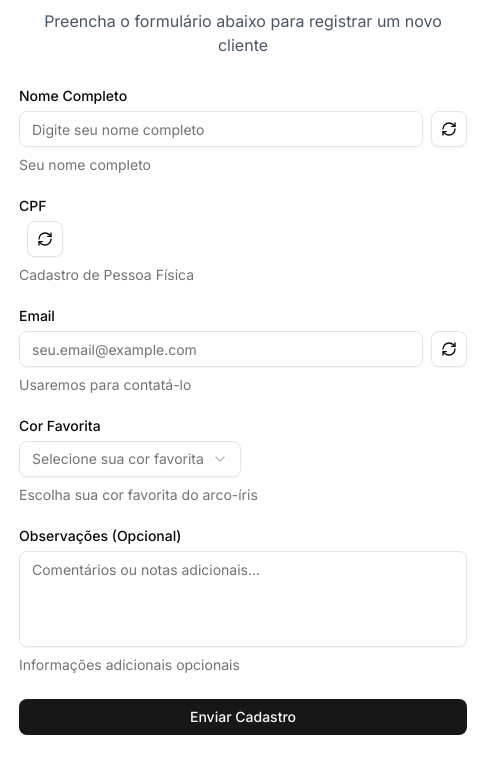
Test: Customer Registration Page Integration › form validation flow › displays validation errors for required fields on empty submission
(page scrolled)
Click the button "Enviar Cadastro". click: click(243, 717)
box: [19,699,467,735]
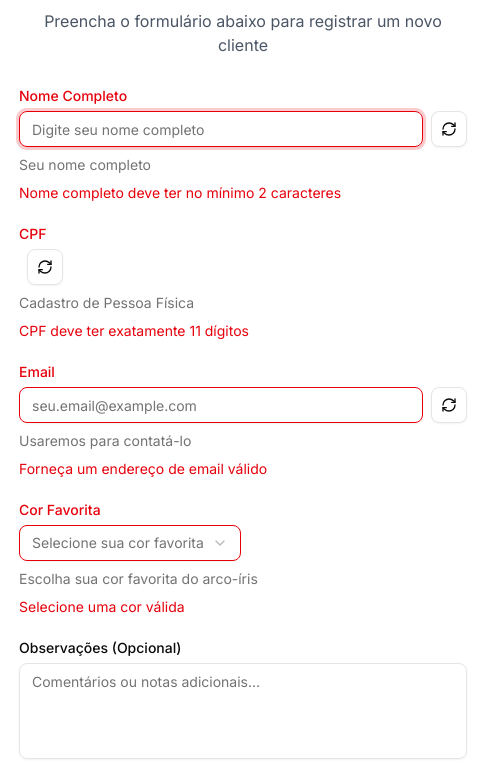
Expected: the text "Nome completo deve ter no mínimo 2 caracteres" is shown, [19,184,341,201]
Expected: the text "CPF deve ter exatamente 11 dígitos" is shown, [19,322,249,339]
